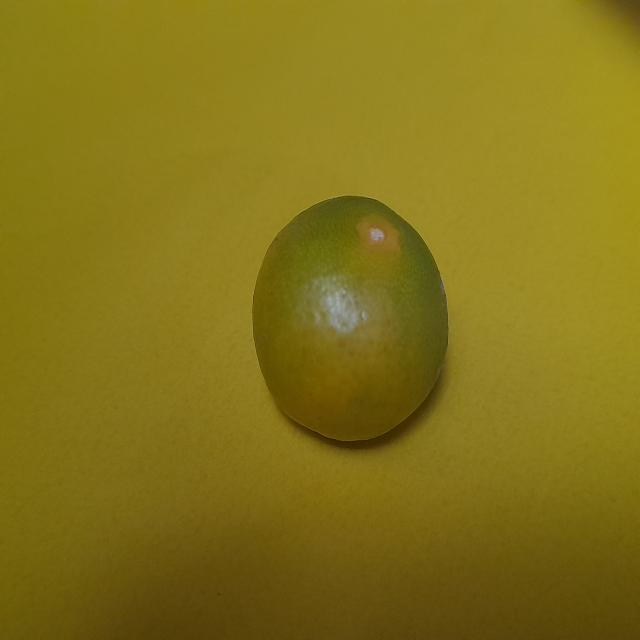greening: (259, 182, 453, 468)
